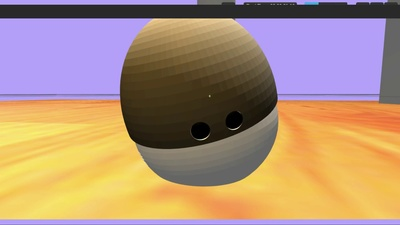mira_robot: (120, 19, 280, 187)
